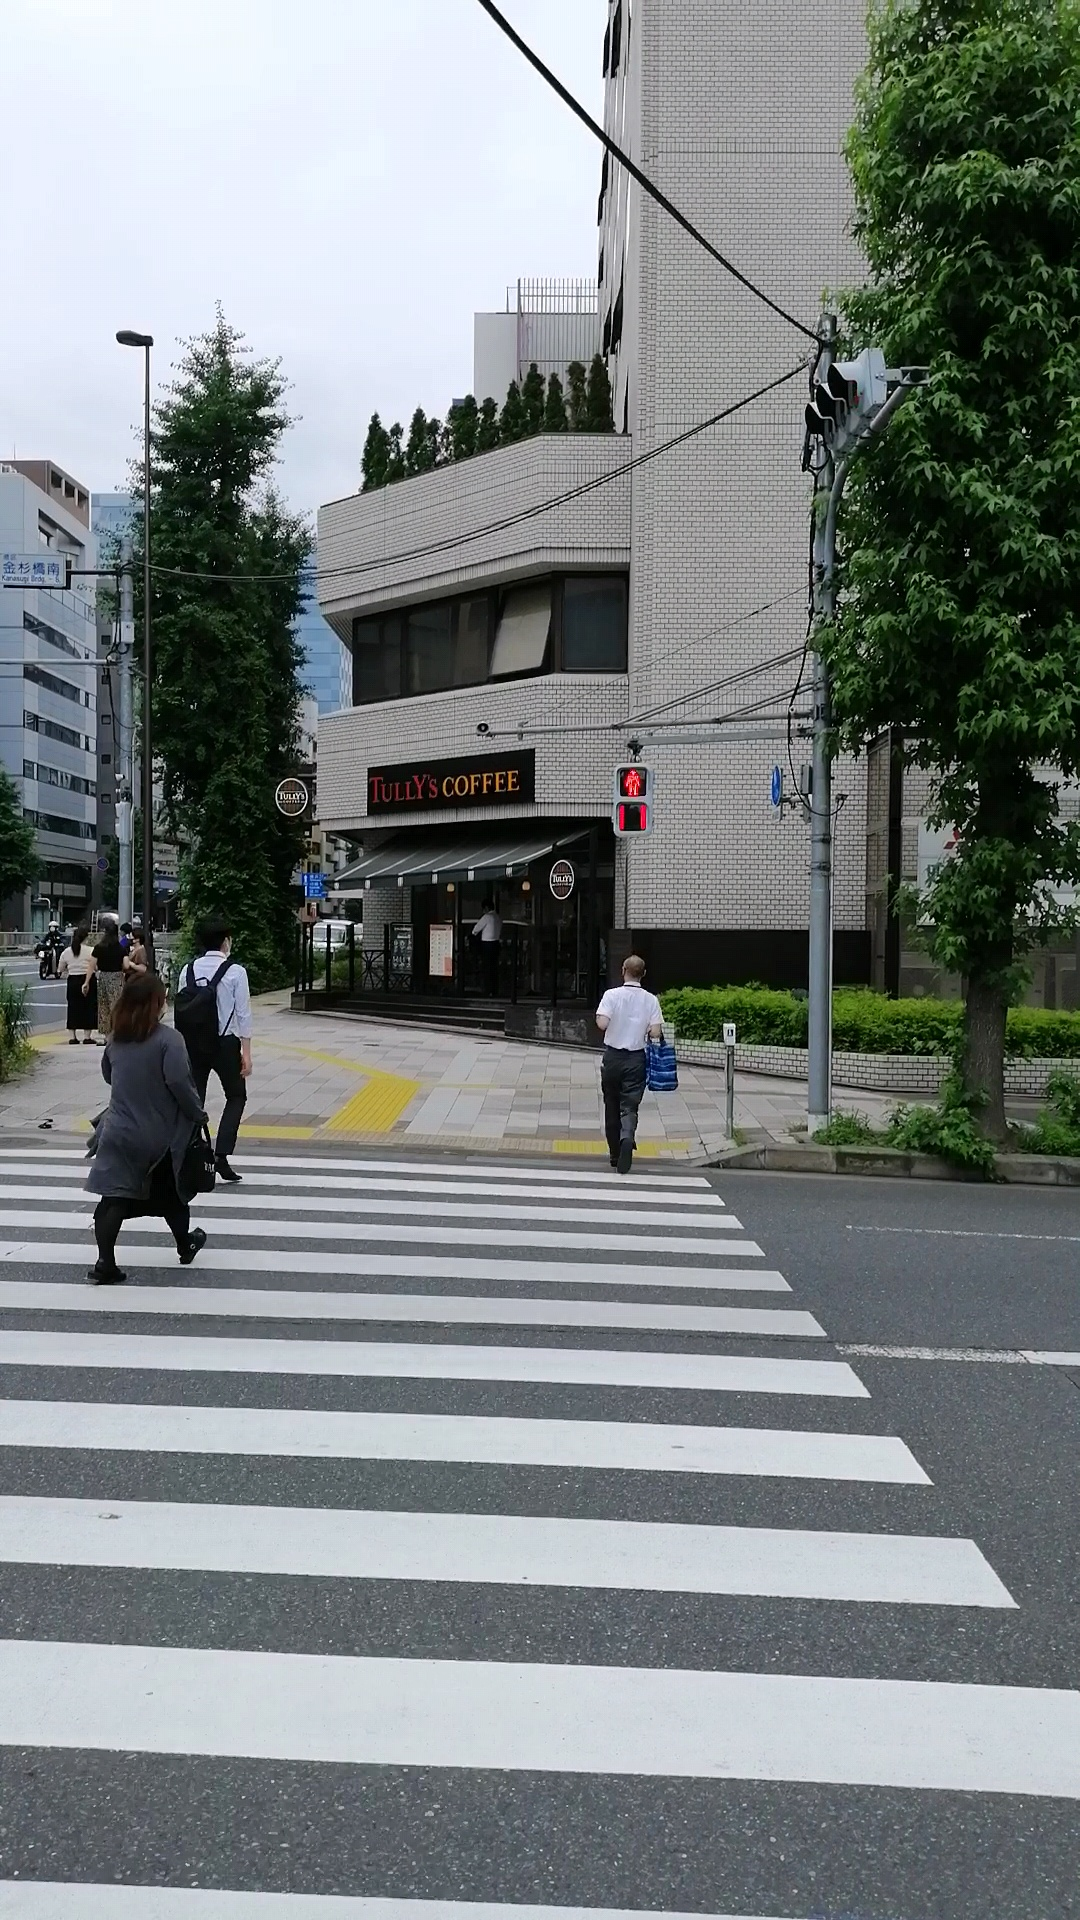red: (612, 762, 651, 837)
